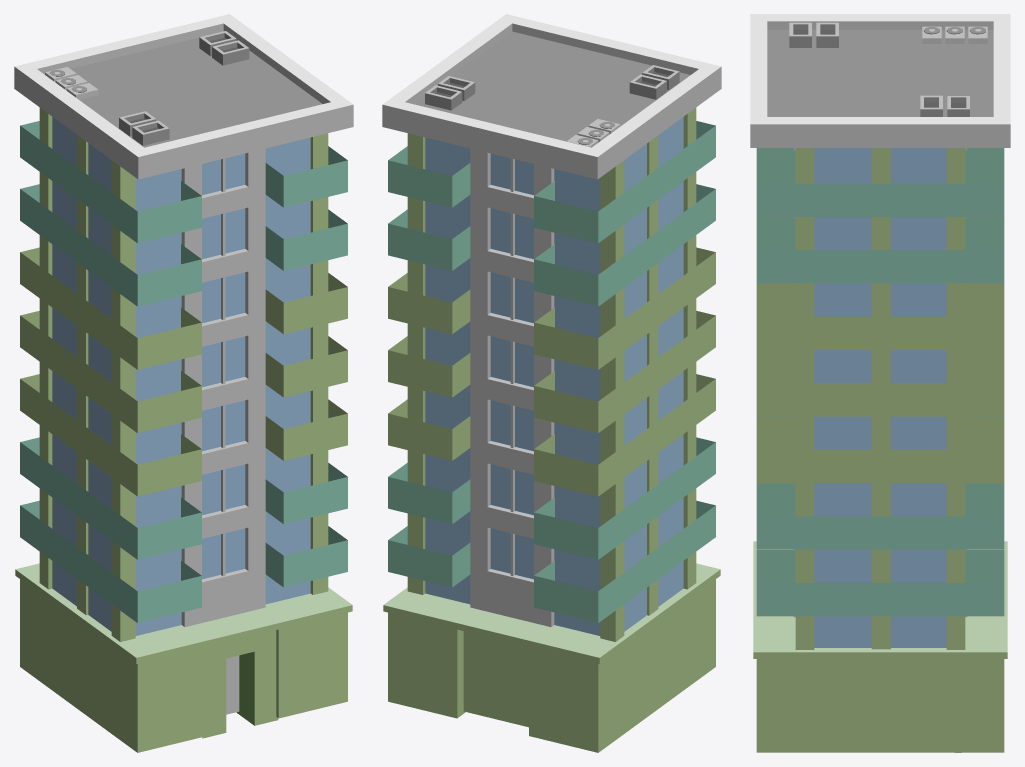
File: house_middle_008.fbx
The picture shows the model from 3 angles, left to right: view 1: azimuth 30°, elevation 25°; view 2: azimuth 150°, elevation 25°; view 3: azimuth 270°, elevation 25°; orthographic projection. The views are drawn at different scales.
Parts seen in each view (by area): view 1: house_middle_008; view 2: house_middle_008; view 3: house_middle_008.
Boxes of the visible parts, left/top/right/bottom form: house_middle_008: left=14, top=14, right=353, bottom=752; house_middle_008: left=382, top=14, right=721, bottom=752; house_middle_008: left=750, top=14, right=1010, bottom=752.
Size of the model in its own units: 727 by 1942 by 720.
